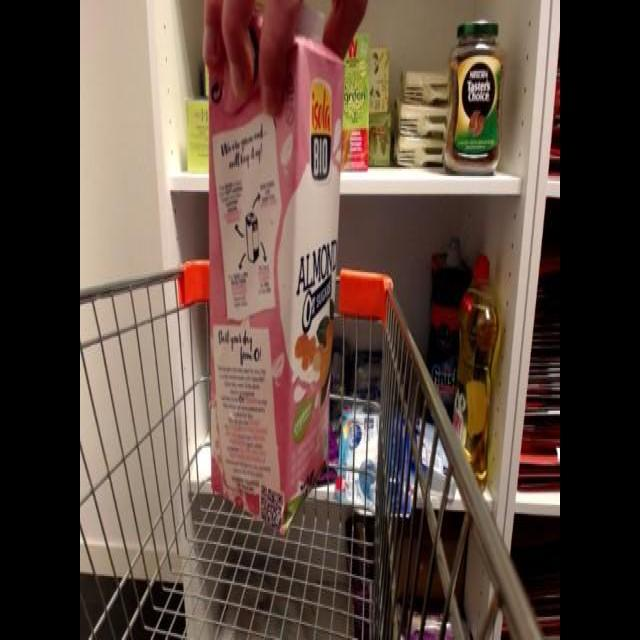Almond Milk: (204, 23, 350, 546)
